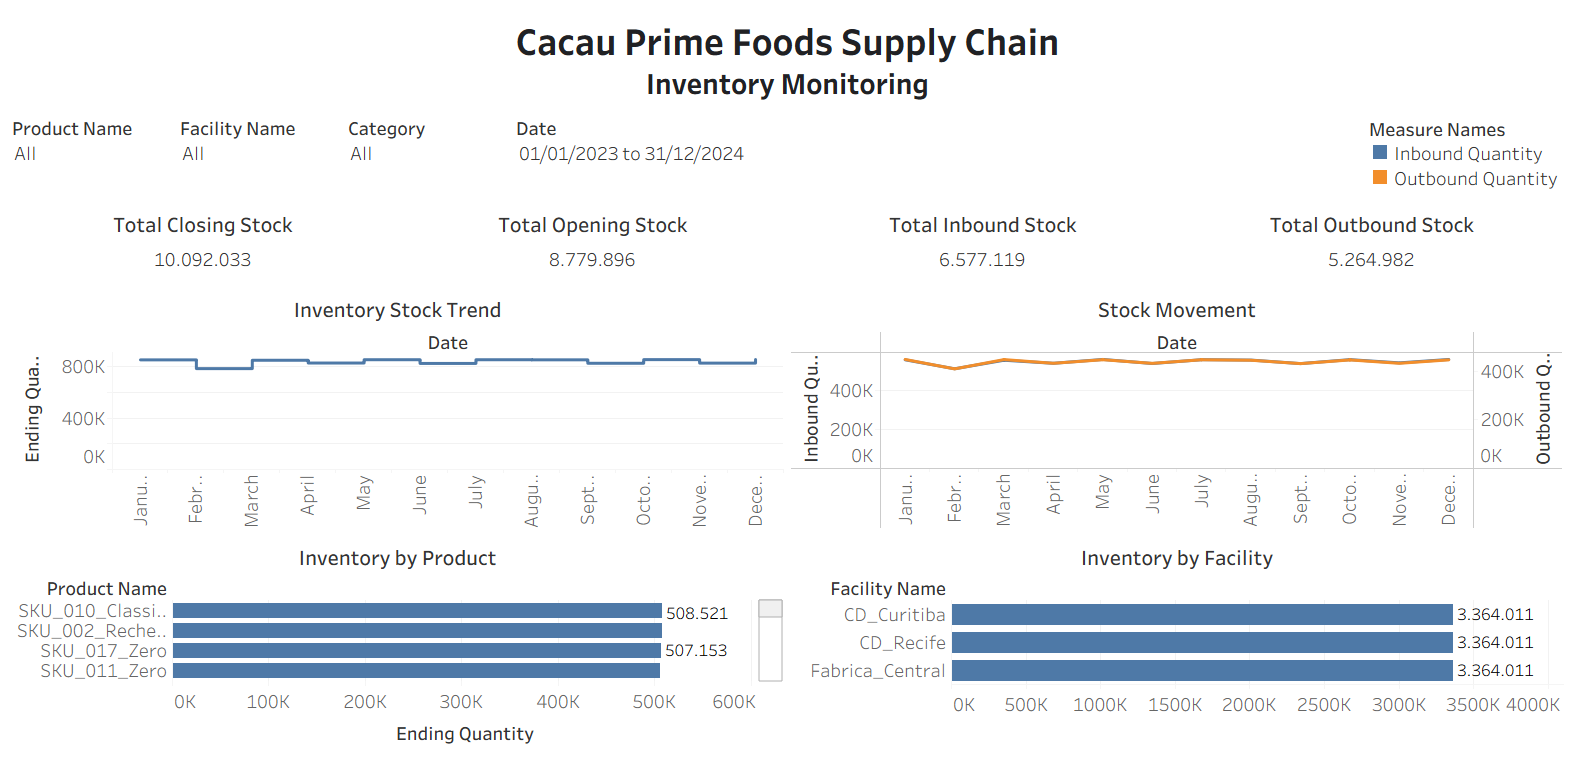

The dashboard page shown, as its layout file describes it:
{"tool":"tableau","page":{"name":"02 - Inventory Monitoring","canvas":[1000,1000],"units":"permille","ordinal":1},"visuals":[{"type":"title","box":[5.1,10.5,989.8,133.5]},{"type":"filter","title":"12 Inventory Stock Trend","param":"[federated.04p1j3w1xi9j5q1c6t3zg0qglj0j].[none:Product Name:nk]","box":[5.1,144,106.7,117.8]},{"type":"filter","title":"12 Inventory Stock Trend","param":"[federated.04p1j3w1xi9j5q1c6t3zg0qglj0j].[none:Facility Name:nk]","box":[111.8,144,106.7,117.8]},{"type":"filter","title":"12 Inventory Stock Trend","param":"[federated.04p1j3w1xi9j5q1c6t3zg0qglj0j].[none:Category:nk]","box":[218.4,144,106.7,117.8]},{"type":"filter","title":"12 Inventory Stock Trend","param":"[federated.04p1j3w1xi9j5q1c6t3zg0qglj0j].[none:Date:qk]","box":[325.1,144,540.9,117.8]},{"type":"legend","title":"13 Stock Movement Trend","param":"[federated.04p1j3w1xi9j5q1c6t3zg0qglj0j].[:Measure Names]","box":[866,144,128.9,117.8]},{"type":"worksheet","title":"08 KPI - Total Closing Stock","mark":"Automatic","box":[5.1,261.8,247.5,111.3]},{"type":"worksheet","title":"09 KPI - Total Opening Stock","mark":"Automatic","box":[252.5,261.8,247.5,111.3]},{"type":"worksheet","title":"10 KPI - Total Inbound","mark":"Automatic","box":[500,261.8,247.5,111.3]},{"type":"worksheet","title":"11 KPI - Total Outbound","mark":"Automatic","box":[747.5,261.8,247.5,111.3]},{"type":"worksheet","title":"12 Inventory Stock Trend","mark":"Automatic","rows":["ending_quantity"],"cols":["Date"],"box":[5.1,373,494.9,324.6]},{"type":"worksheet","title":"13 Stock Movement Trend","mark":"Automatic","rows":["inbound_quantity","outbound_quantity"],"cols":["Date"],"box":[500,373,494.9,324.6]},{"type":"worksheet","title":"14  Inventory by Product","mark":"Automatic","rows":["Product Name"],"cols":["ending_quantity"],"box":[5.1,697.6,494.9,291.9]},{"type":"worksheet","title":"15  Inventory by Facility","mark":"Automatic","rows":["Facility Name"],"cols":["ending_quantity"],"box":[500,697.6,494.9,291.9]}]}

Visuals, with their boxes on the dashboard's canvas, which has no fixed pixel size, in thousandths of its width and height (x1, y1, x2, y2). These are canvas units, not pixel positions in the 1575x764 screenshot, which may show the page scaled, cropped or inside an application window:
title: box(5, 10, 995, 144)
"12 Inventory Stock Trend" filter: box(5, 144, 112, 262)
"12 Inventory Stock Trend" filter: box(112, 144, 218, 262)
"12 Inventory Stock Trend" filter: box(218, 144, 325, 262)
"12 Inventory Stock Trend" filter: box(325, 144, 866, 262)
"13 Stock Movement Trend" legend: box(866, 144, 995, 262)
"08 KPI - Total Closing Stock" worksheet: box(5, 262, 253, 373)
"09 KPI - Total Opening Stock" worksheet: box(252, 262, 500, 373)
"10 KPI - Total Inbound" worksheet: box(500, 262, 748, 373)
"11 KPI - Total Outbound" worksheet: box(748, 262, 995, 373)
"12 Inventory Stock Trend" worksheet: box(5, 373, 500, 698)
"13 Stock Movement Trend" worksheet: box(500, 373, 995, 698)
"14  Inventory by Product" worksheet: box(5, 698, 500, 990)
"15  Inventory by Facility" worksheet: box(500, 698, 995, 990)
